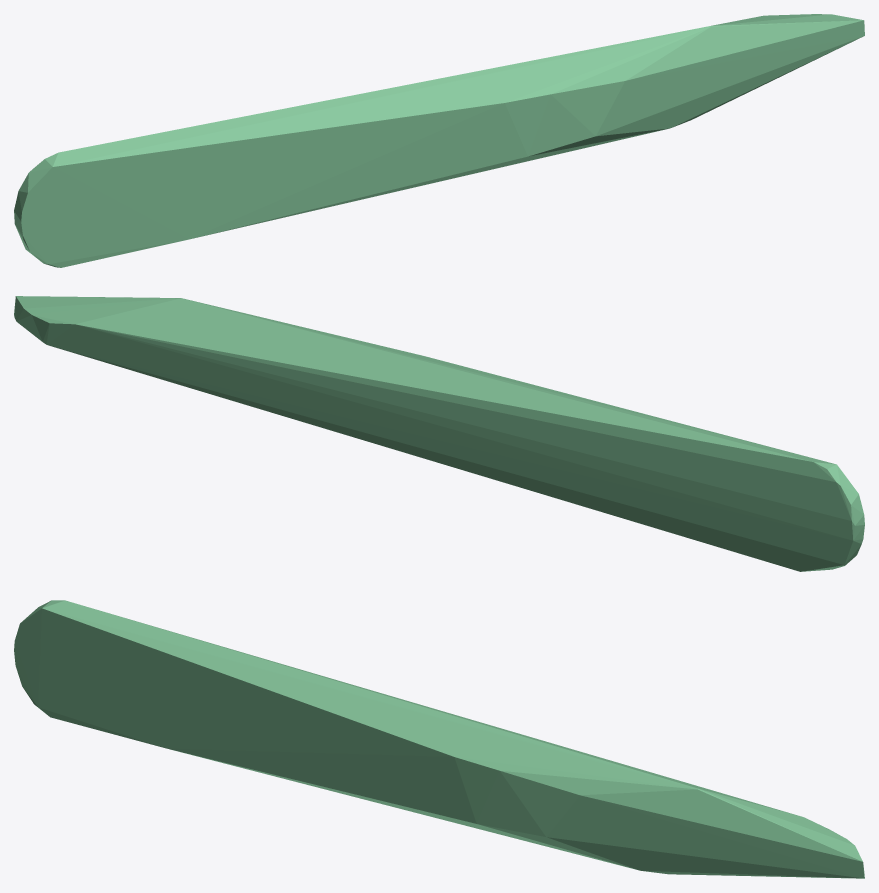
Rendered from instrument_bone_lever_a01.glb.
The picture shows the model from 3 angles, top to bottom: view 1: azimuth 30°, elevation 25°; view 2: azimuth 150°, elevation 25°; view 3: azimuth 330°, elevation 25°; orthographic projection. The views are drawn at different scales.
Parts seen in each view (by area): view 1: geometry_0; view 2: geometry_0; view 3: geometry_0.
Part boxes in pixels (bbox=[...]): geometry_0: bbox=[14, 14, 864, 267]; geometry_0: bbox=[14, 296, 864, 571]; geometry_0: bbox=[14, 600, 864, 878].
Bounding box in the file's own units: 0.4795 × 0.0605 × 0.0402.
